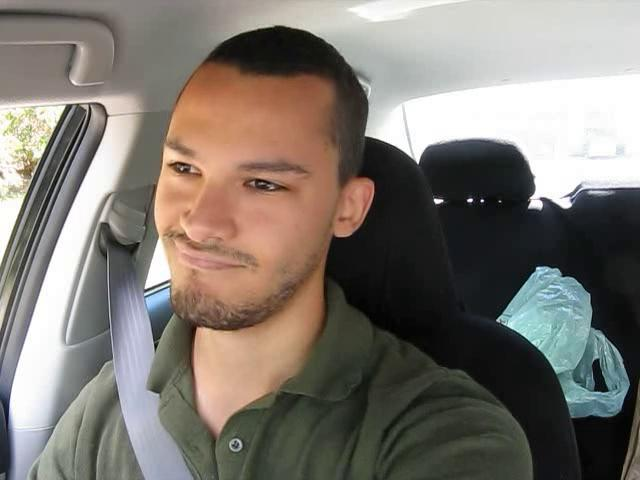no_yawn: (156, 237, 260, 284)
open_eyeL: (155, 147, 213, 189)
open_eyeR: (230, 164, 307, 208)
